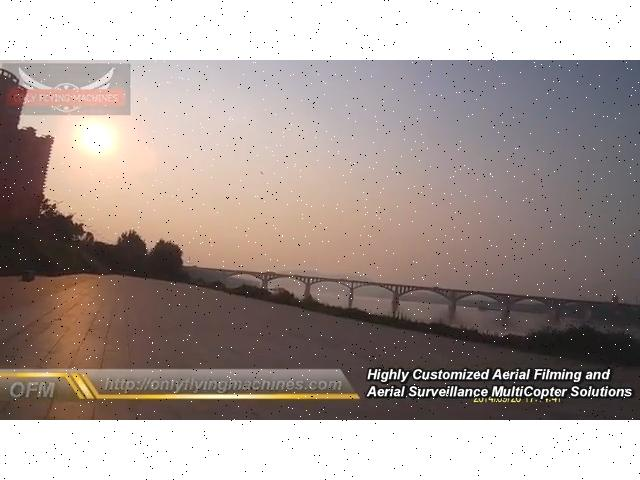Anti-Drone: (254, 167, 270, 178)
